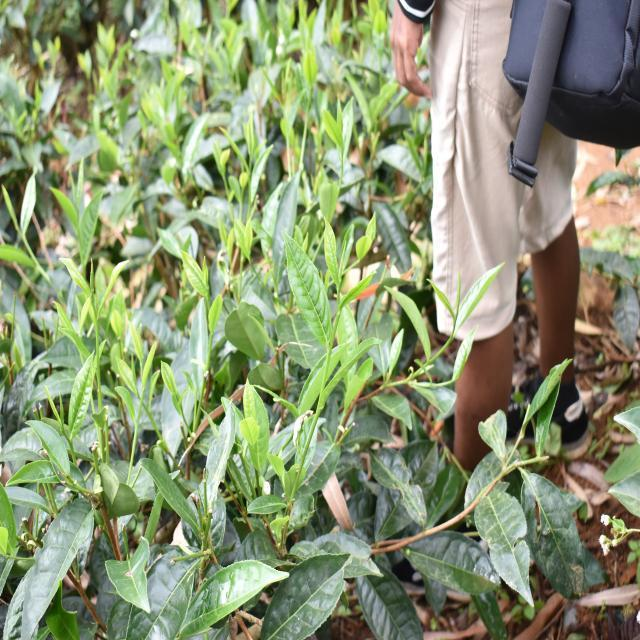Stem: (134, 423, 138, 430), (337, 285, 340, 291), (341, 150, 344, 156), (453, 317, 456, 322), (69, 441, 72, 445)
